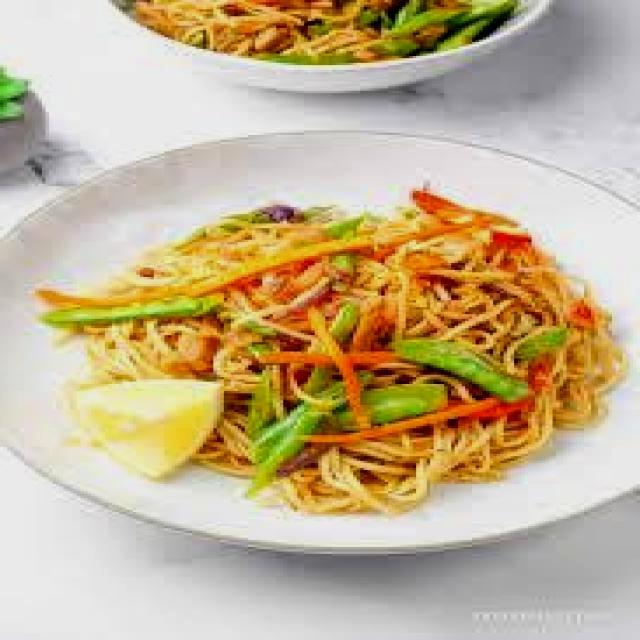pancit bihon: (79, 184, 612, 505)
